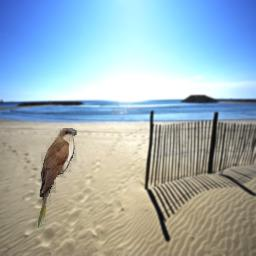Cuckoo: (37, 128, 77, 228)
